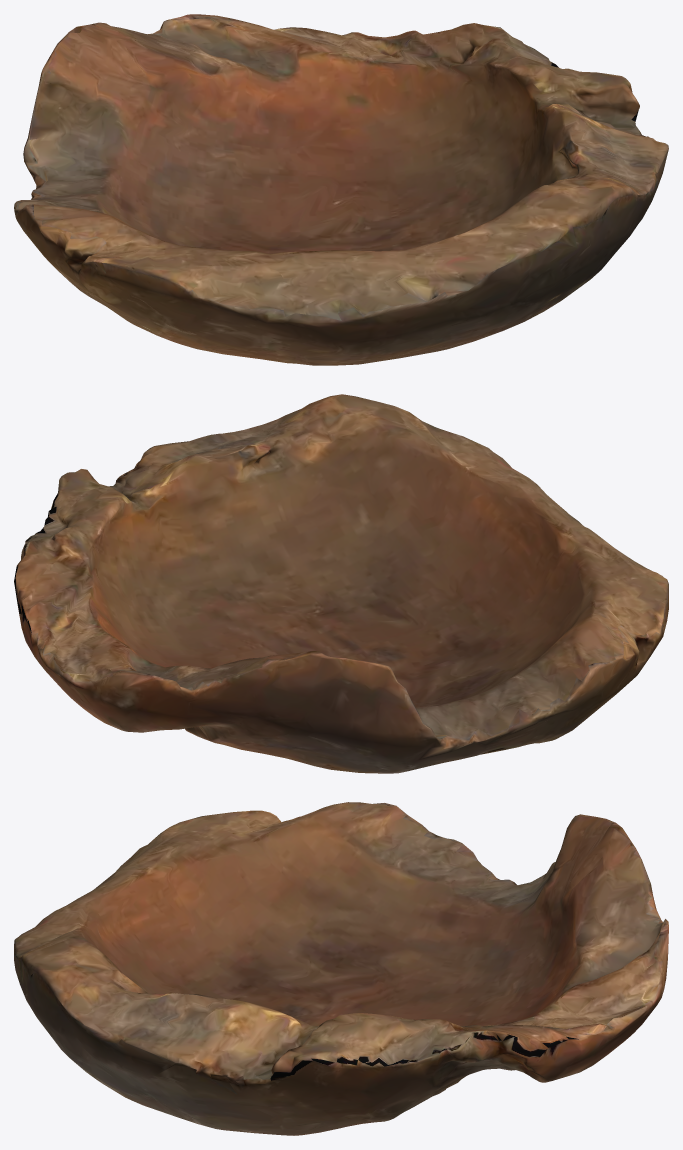
Rendered from wooden-bowl-01.glb.
3 views of the same model, one above another, from view 1: azimuth 30°, elevation 25°; view 2: azimuth 150°, elevation 25°; view 3: azimuth 270°, elevation 25° (orthographic). The views are drawn at different scales.
Visible parts, largest first — view 1: wooden_bowl_01; view 2: wooden_bowl_01; view 3: wooden_bowl_01.
Boxes of the visible parts, box(x1,y1,x2,y2) form: wooden_bowl_01: box(14, 14, 668, 365); wooden_bowl_01: box(14, 394, 668, 773); wooden_bowl_01: box(14, 802, 668, 1135).
Size of the model in its own units: 0.3129 by 0.0934 by 0.309.
Materials: 1 (1 with a texture image).
